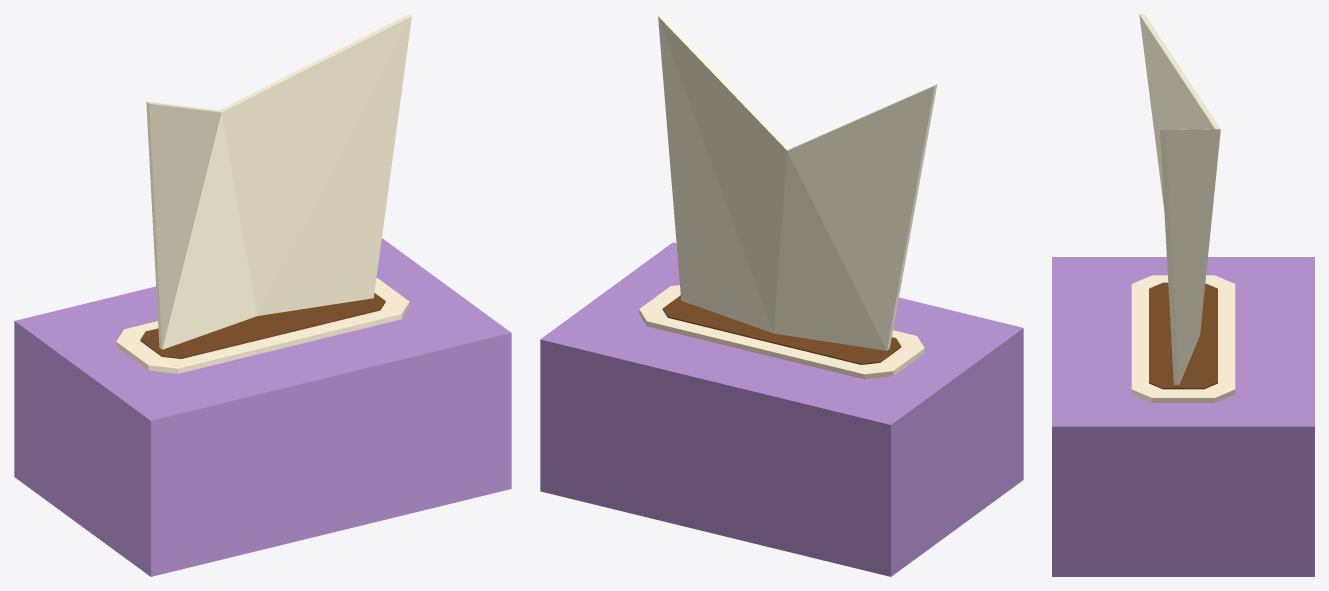
File: 10-tissue-box.glb
The picture shows the model from 3 angles, left to right: view 1: azimuth 30°, elevation 25°; view 2: azimuth 150°, elevation 25°; view 3: azimuth 270°, elevation 25°; orthographic projection. The views are drawn at different scales.
Parts seen in each view (by area): view 1: 10-tissue-box__Box, 10-tissue-box__PaperRight, 10-tissue-box__PaperLeft, 10-tissue-box__SlotBorder, 10-tissue-box__SlotShadow; view 2: 10-tissue-box__Box, 10-tissue-box__PaperLeft, 10-tissue-box__PaperRight, 10-tissue-box__SlotBorder, 10-tissue-box__SlotShadow; view 3: 10-tissue-box__Box, 10-tissue-box__PaperRight, 10-tissue-box__SlotBorder, 10-tissue-box__SlotShadow, 10-tissue-box__PaperLeft.
Part boxes in pixels (x1,y1,x2,y2): 10-tissue-box__Box: (14,238,511,576); 10-tissue-box__PaperRight: (219,14,411,315); 10-tissue-box__PaperLeft: (146,101,256,349); 10-tissue-box__SlotBorder: (116,278,409,373); 10-tissue-box__SlotShadow: (140,293,385,358); 10-tissue-box__Box: (540,242,1023,576); 10-tissue-box__PaperLeft: (773,84,937,350); 10-tissue-box__PaperRight: (658,14,789,333); 10-tissue-box__SlotBorder: (639,285,924,379); 10-tissue-box__SlotShadow: (662,295,901,364); 10-tissue-box__Box: (1052,257,1314,576); 10-tissue-box__PaperRight: (1160,129,1220,384); 10-tissue-box__SlotBorder: (1131,275,1235,402); 10-tissue-box__SlotShadow: (1149,282,1217,389); 10-tissue-box__PaperLeft: (1139,14,1220,209).
Size of the model in its own units: 0.29 by 0.34 by 0.19.
